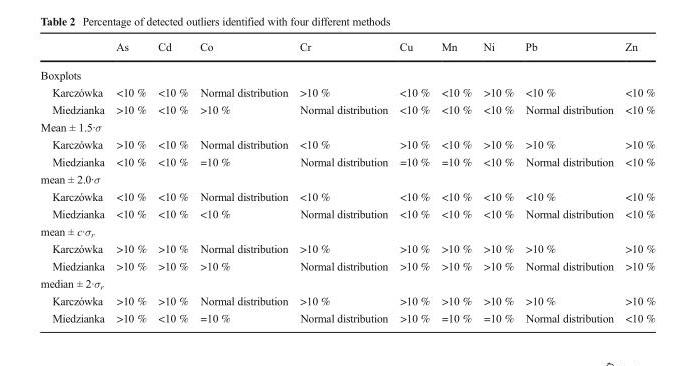table: (39, 39, 654, 323)
table column: (193, 39, 293, 323), (293, 39, 393, 323), (518, 39, 618, 323), (39, 39, 109, 323), (109, 39, 151, 323), (151, 39, 193, 323), (434, 39, 476, 323), (476, 39, 518, 323), (393, 39, 434, 323), (618, 39, 654, 323)
table column header: (39, 39, 654, 60)
table projected row header: (39, 60, 654, 83), (39, 221, 654, 240), (39, 117, 654, 135), (39, 274, 654, 292), (39, 170, 654, 187)
table row: (39, 60, 654, 83), (39, 39, 654, 60), (39, 221, 654, 240), (39, 117, 654, 135), (39, 152, 654, 170), (39, 256, 654, 274), (39, 274, 654, 292), (39, 83, 654, 100), (39, 100, 654, 117), (39, 135, 654, 152), (39, 170, 654, 187), (39, 187, 654, 204), (39, 204, 654, 221), (39, 292, 654, 309), (39, 240, 654, 256), (39, 309, 654, 323)
